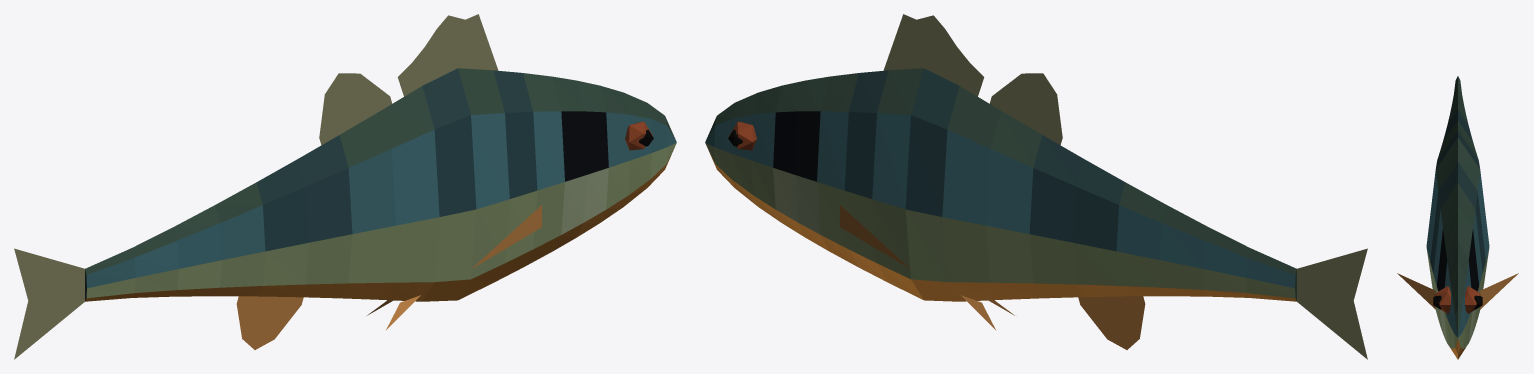
The model's file is bluegill.glb.
3 views of the same model, side by side, from view 1: azimuth 30°, elevation 25°; view 2: azimuth 150°, elevation 25°; view 3: azimuth 270°, elevation 25° (orthographic). The views are drawn at different scales.
Visible parts, largest first — view 1: bluegill; view 2: bluegill; view 3: bluegill.
Boxes of the visible parts, <box> form: bluegill: <box>14,14,676,359</box>; bluegill: <box>705,14,1367,359</box>; bluegill: <box>1397,76,1518,359</box>.
Bounding box in the file's own units: 1.12 × 0.4696 × 0.2107.
